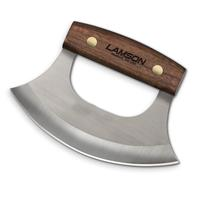knife: (8, 9, 193, 174)
